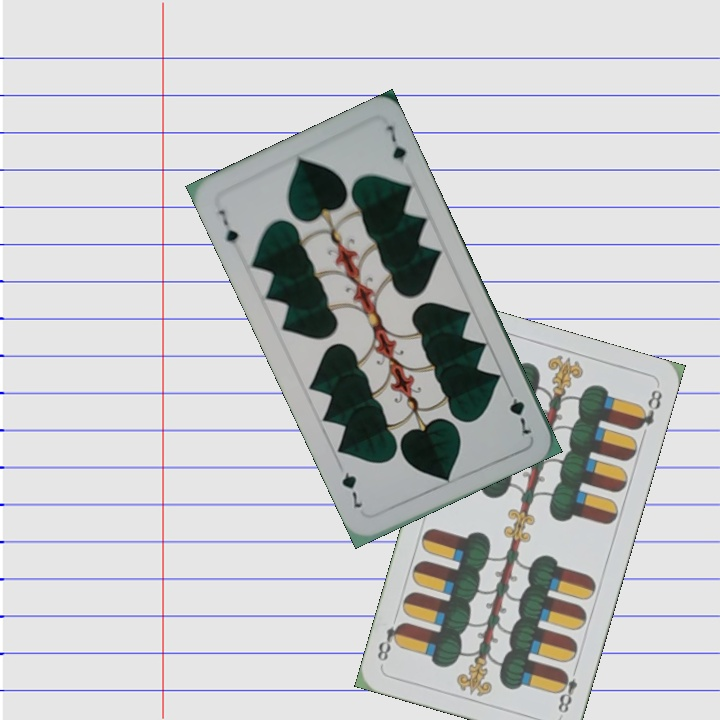E8: (553, 661, 581, 716)
G7: (502, 382, 534, 438), (213, 205, 241, 247)
